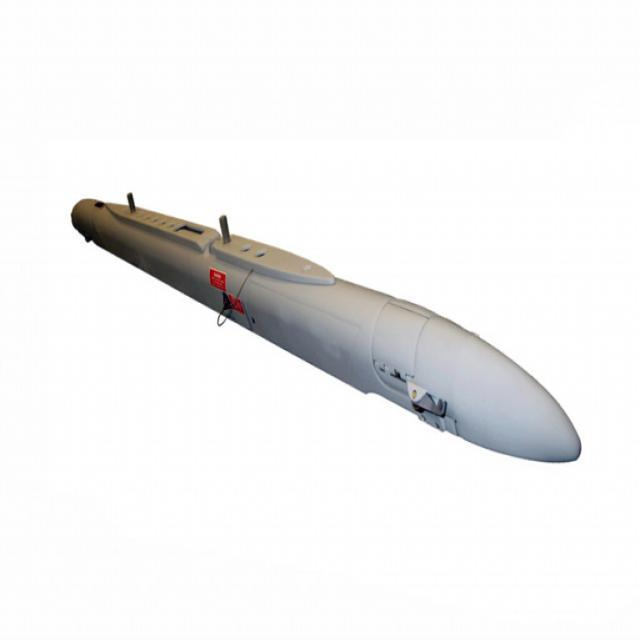missile: (54, 173, 593, 485)
